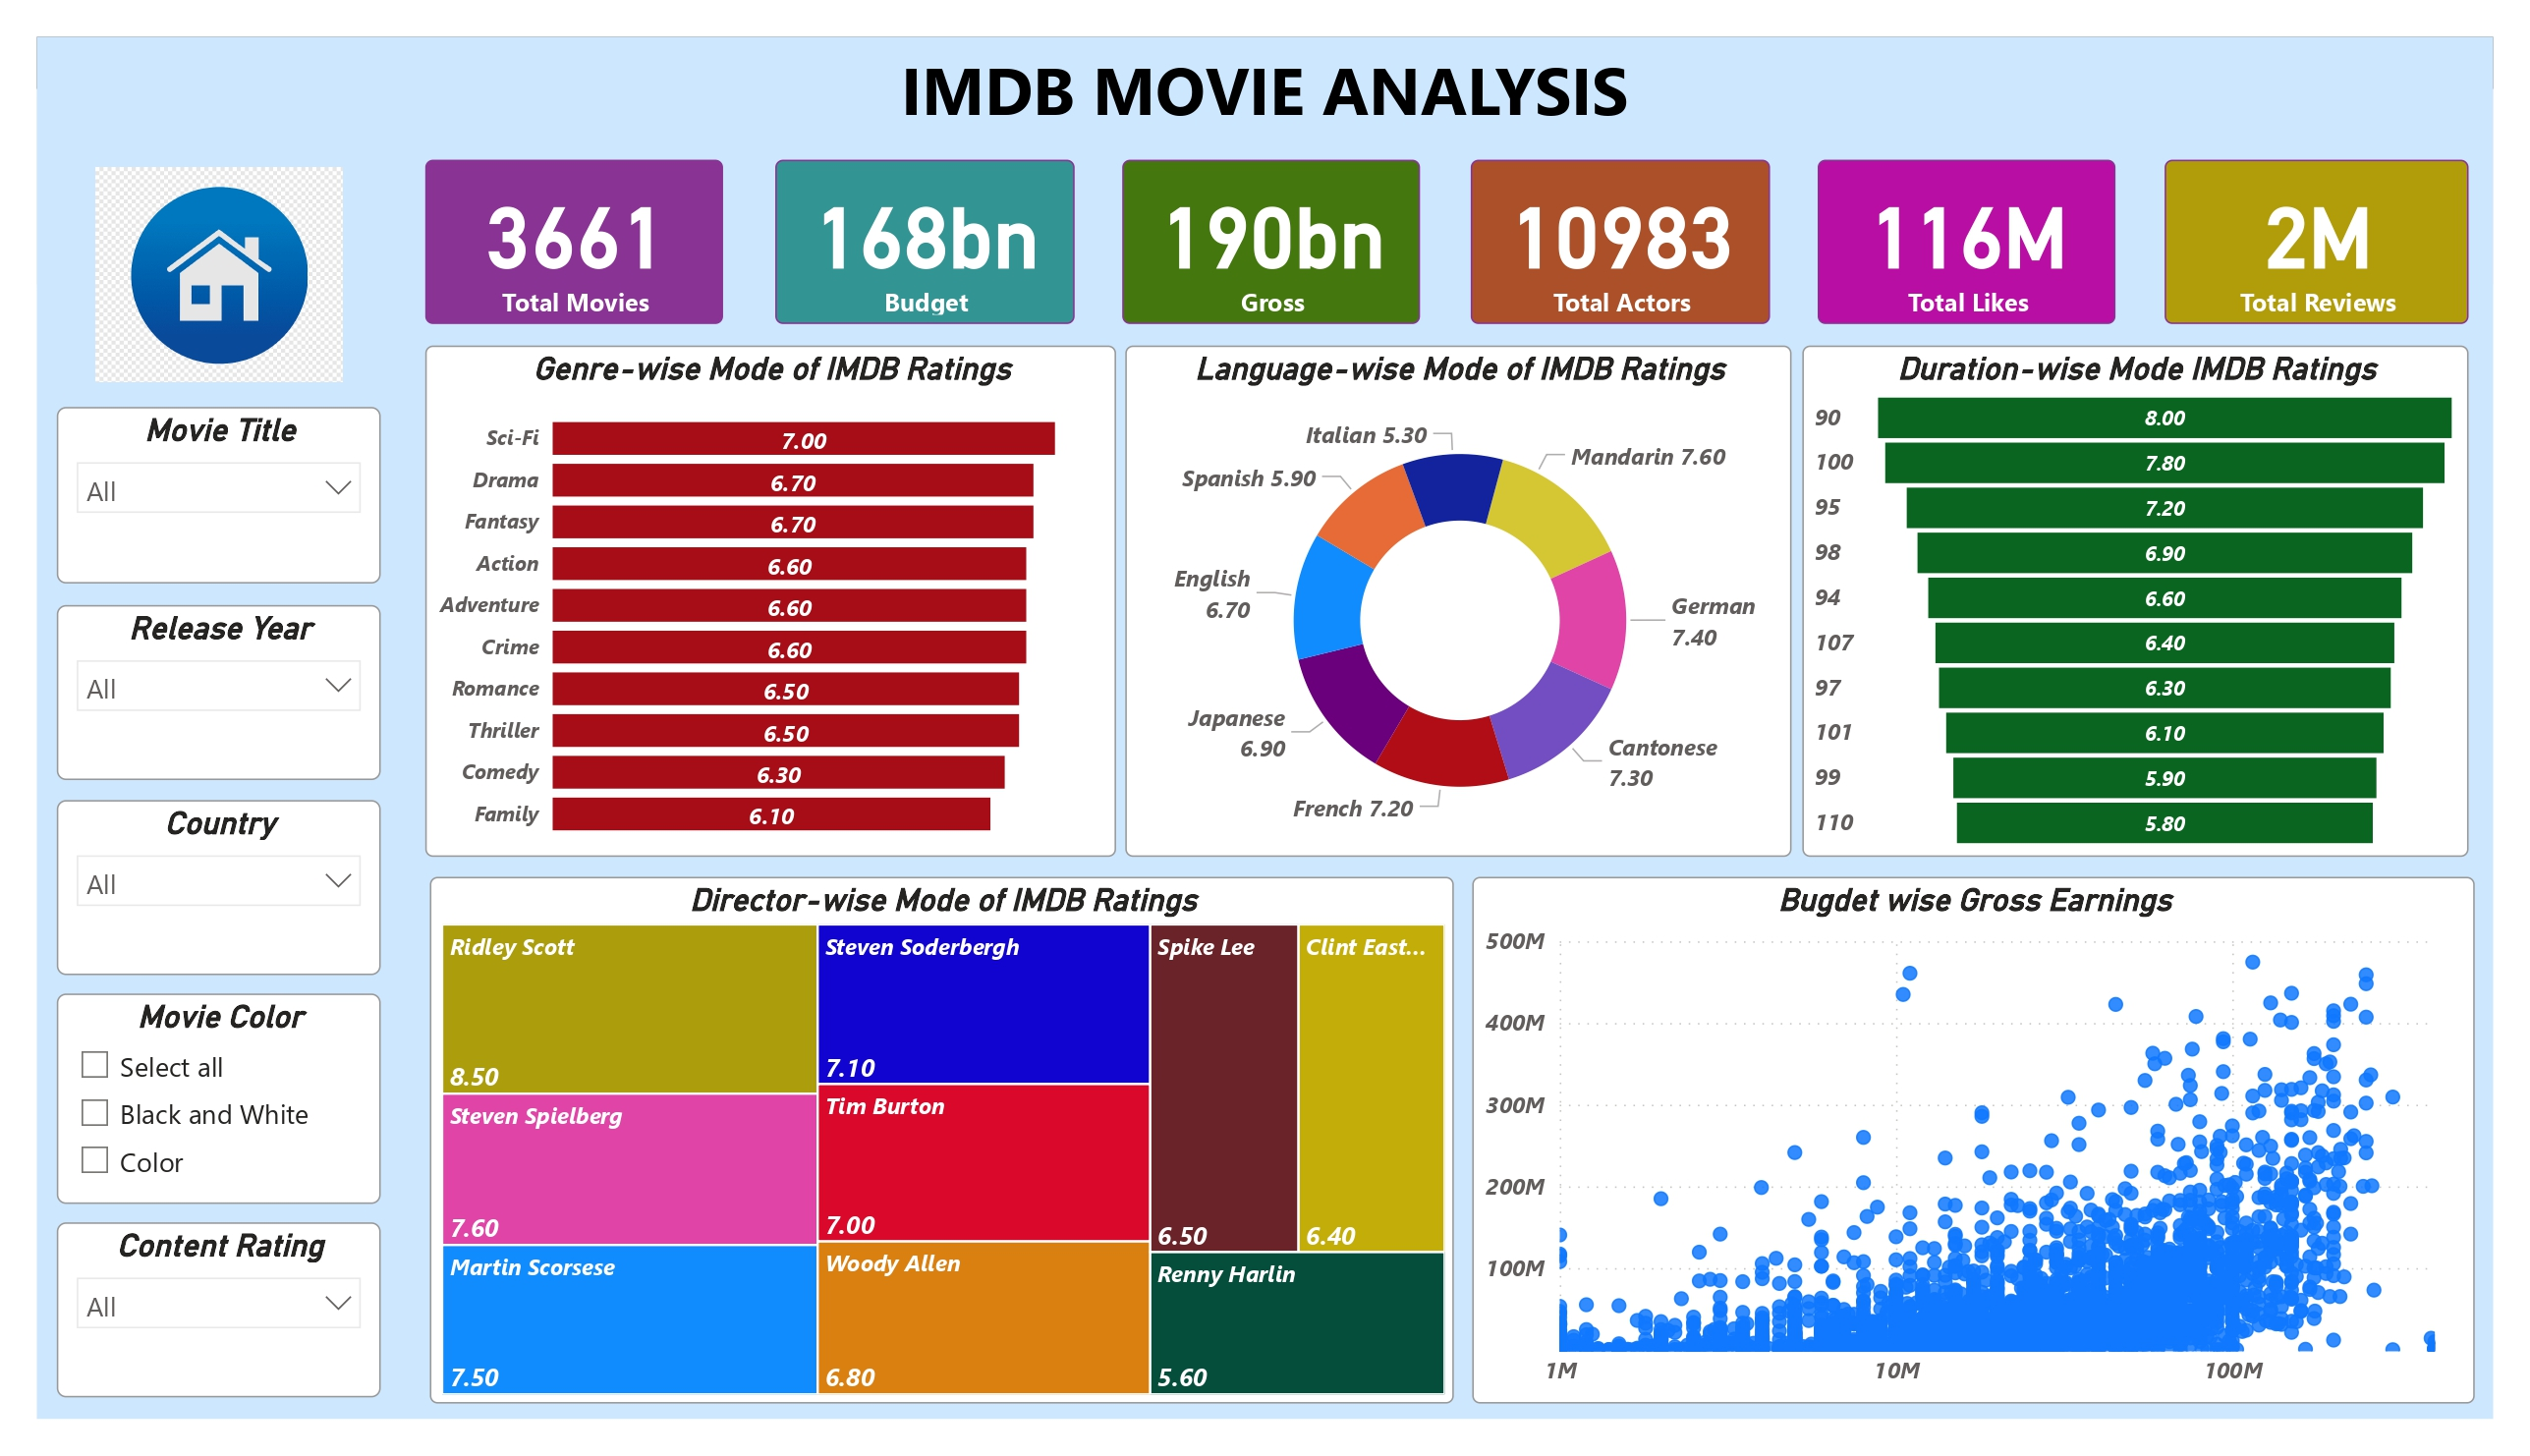

The dashboard page shown, as its layout file describes it:
{"tool":"powerbi","page":{"name":"Mode","canvas":[1600,900],"ordinal":2},"visuals":[{"type":"clusteredBarChart","title":"Genre-wise Mode of IMDB Ratings","fields":{"Category":["genres.genres"],"Y":["genres.mode_imdb_score"]},"box":[252.9,201.4,450,332.9],"z":0},{"type":"funnel","title":"Duration-wise Mode IMDB Ratings","fields":{"Category":["Movies.duration"],"Y":["genres.mode_imdb_score"]},"box":[1149.9,200.8,434.3,332.9],"z":1000},{"type":"donutChart","title":"Language-wise Mode of IMDB Ratings","fields":{"Category":["Movies.language"],"Y":["genres.mode_imdb_score"]},"box":[708.6,201.4,434.3,332.9],"z":2000},{"type":"treemap","title":"Director-wise Mode of IMDB Ratings","fields":{"Group":["Cast.director_name"],"Values":["genres.mode_imdb_score"]},"box":[256.1,547.1,667.1,342.9],"z":3000},{"type":"scatterChart","title":"Bugdet wise Gross Earnings","fields":{"X":["Movies.budget"],"Y":["Movies.gross"]},"box":[934.7,547.1,652.9,342.9],"z":4000},{"type":"card","fields":{"Values":["Movies.movie_title"]},"box":[252.9,80,194.3,107.1],"z":5000},{"type":"card","fields":{"Values":["Movies.budget"]},"box":[481.4,80,194.3,107.1],"z":6000},{"type":"card","fields":{"Values":["Movies.gross"]},"box":[707.1,80,194.3,107.1],"z":7000},{"type":"card","fields":{"Values":["Cast.Total_actors"]},"box":[934.3,80,194.3,107.1],"z":8000},{"type":"card","fields":{"Values":["Likes.total_likes"]},"box":[1160,80,194.3,107.1],"z":9000},{"type":"card","fields":{"Values":["Reviews.total_reviews"]},"box":[1385.7,80,198.6,107.1],"z":10000},{"type":"slicer","title":"Release Year","fields":{"Values":["IMDB_Movies.title_year"]},"box":[12.9,370,211.4,114.3],"z":11000},{"type":"slicer","title":"Movie Color","fields":{"Values":["Movies.color"]},"box":[12.9,622.9,211.4,137.1],"z":12000},{"type":"slicer","title":"Content Rating","fields":{"Values":["Movies.content_rating"]},"box":[12.9,771.8,211.4,114.3],"z":13000},{"type":"slicer","title":"Country","fields":{"Values":["Movies.country"]},"box":[12.9,497.1,211.4,114.3],"z":14000},{"type":"slicer","title":"Movie Title","fields":{"Values":["Cast.movie_title"]},"box":[12.9,241.4,211.4,114.3],"z":15000},{"type":"image","box":[12.9,80,211.4,150],"z":16000},{"type":"textbox","box":[0,0,1600,70],"z":17000}]}

Visuals, with their boxes on the page's 1600x900 design canvas (x1, y1, x2, y2). These are canvas units, not pixel positions in the 2530x1456 screenshot, which may show the page scaled, cropped or inside an application window:
"Genre-wise Mode of IMDB Ratings" clusteredBarChart: <box>253,201,703,534</box>
"Duration-wise Mode IMDB Ratings" funnel: <box>1150,201,1584,534</box>
"Language-wise Mode of IMDB Ratings" donutChart: <box>709,201,1143,534</box>
"Director-wise Mode of IMDB Ratings" treemap: <box>256,547,923,890</box>
"Bugdet wise Gross Earnings" scatterChart: <box>935,547,1588,890</box>
card - Movies.movie_title: <box>253,80,447,187</box>
card - Movies.budget: <box>481,80,676,187</box>
card - Movies.gross: <box>707,80,901,187</box>
card - Cast.Total_actors: <box>934,80,1129,187</box>
card - Likes.total_likes: <box>1160,80,1354,187</box>
card - Reviews.total_reviews: <box>1386,80,1584,187</box>
"Release Year" slicer: <box>13,370,224,484</box>
"Movie Color" slicer: <box>13,623,224,760</box>
"Content Rating" slicer: <box>13,772,224,886</box>
"Country" slicer: <box>13,497,224,611</box>
"Movie Title" slicer: <box>13,241,224,356</box>
image: <box>13,80,224,230</box>
textbox: <box>0,0,1600,70</box>
